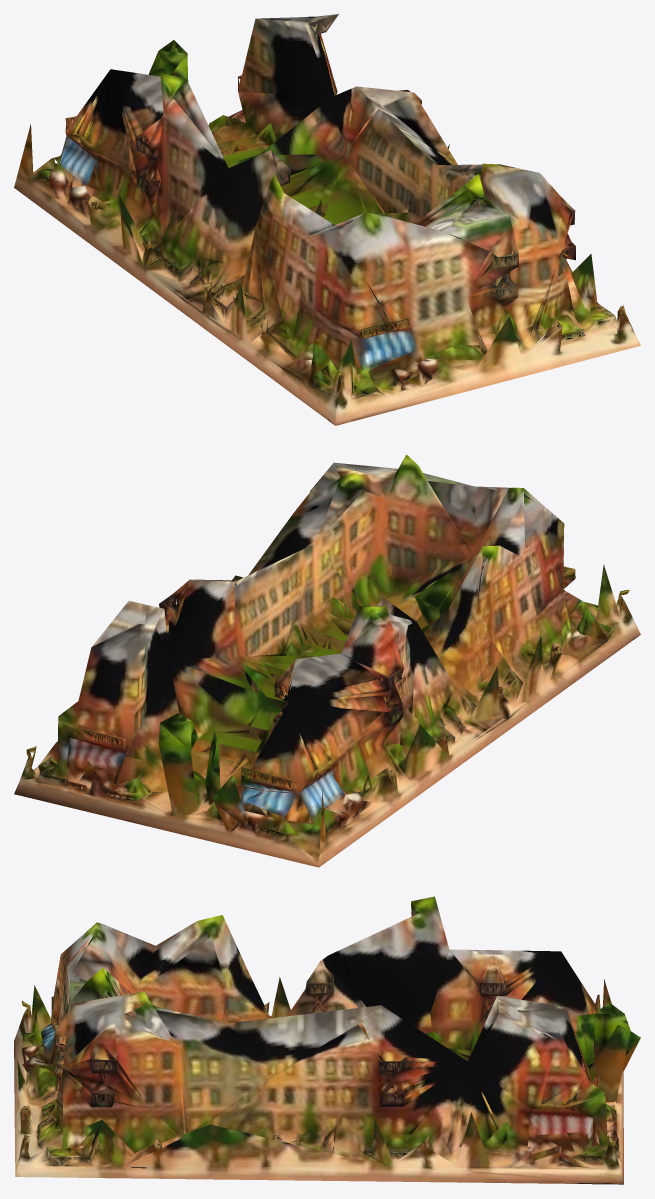
The model's file is block-rowhouses-a.far.glb.
3 renders of one model, top to bottom at view 1: azimuth 30°, elevation 25°; view 2: azimuth 150°, elevation 25°; view 3: azimuth 270°, elevation 25°, orthographic. The views are drawn at different scales.
Parts seen in each view (by area): view 1: low; view 2: low; view 3: low.
Boxes of the visible parts, <box> form: low: <box>14,14,640,425</box>; low: <box>14,454,640,867</box>; low: <box>14,896,640,1184</box>.
Bounding box in the file's own units: 0.5111 × 0.2788 × 0.9463.
1 material, 1 textured.
